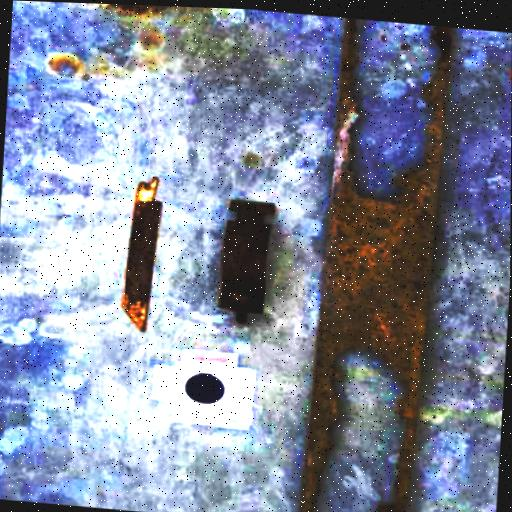corrosion: (284, 13, 476, 512), (209, 168, 290, 332), (108, 164, 184, 338), (97, 4, 191, 27)
